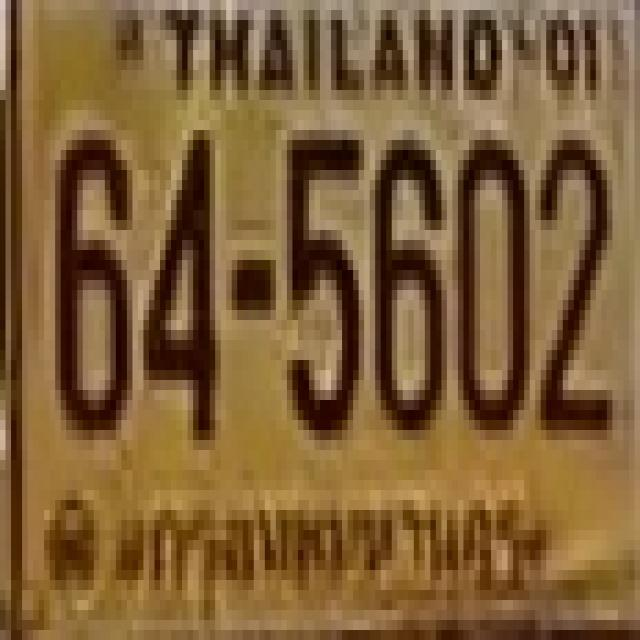0: (453, 130, 524, 420)
2: (535, 130, 607, 430)
4: (141, 120, 212, 430)
5: (282, 130, 358, 430)
6: (50, 130, 127, 430), (370, 135, 441, 425)
BKK: (142, 480, 522, 604)
